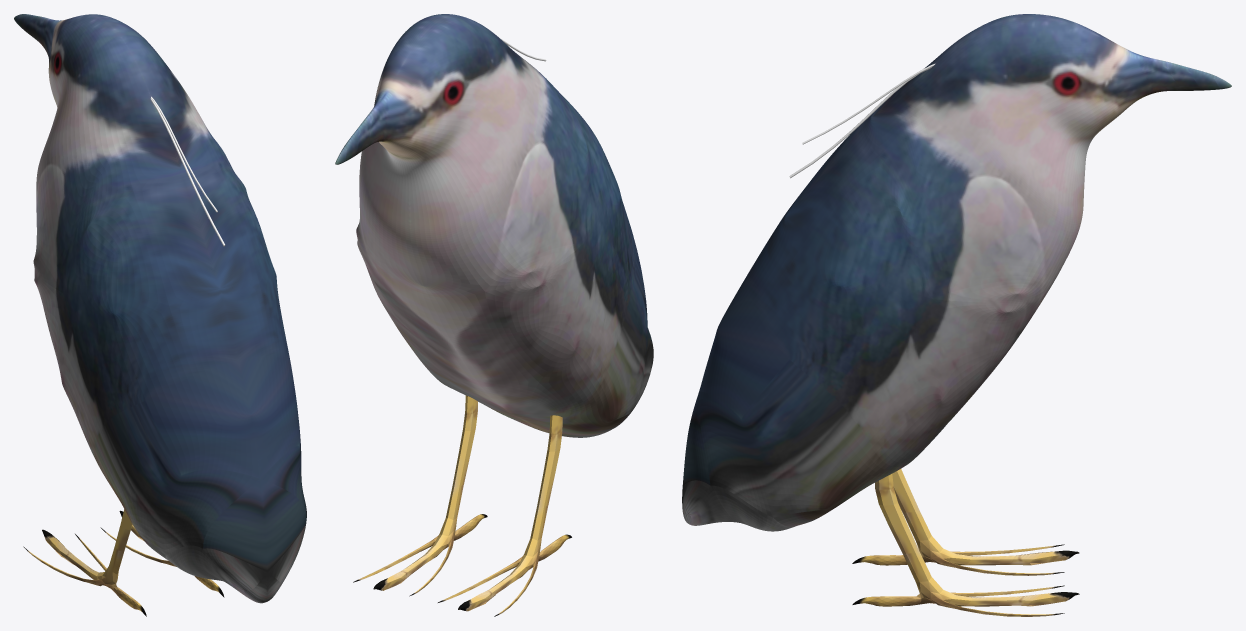
The model's file is asset.glb.
3 views of the same model, side by side, from view 1: azimuth 30°, elevation 25°; view 2: azimuth 150°, elevation 25°; view 3: azimuth 270°, elevation 25° (orthographic). The views are drawn at different scales.
Parts seen in each view (by area): view 1: Cube_0, object 3, object 2, object 4; view 2: Cube_0, object 3, object 2; view 3: Cube_0, object 2, object 3.
Boxes of the visible parts, bbox=[...] form: Cube_0: bbox=[14, 14, 306, 603]; object 3: bbox=[23, 509, 146, 616]; object 2: bbox=[100, 510, 224, 597]; object 4: bbox=[150, 98, 225, 246]; Cube_0: bbox=[335, 14, 653, 437]; object 3: bbox=[438, 415, 571, 616]; object 2: bbox=[353, 395, 487, 596]; Cube_0: bbox=[682, 14, 1231, 531]; object 2: bbox=[852, 474, 1079, 616]; object 3: bbox=[852, 469, 1079, 575].
Size of the model in its own units: 0.3952 by 1.1 by 0.9625.
4 materials, 3 textured.
